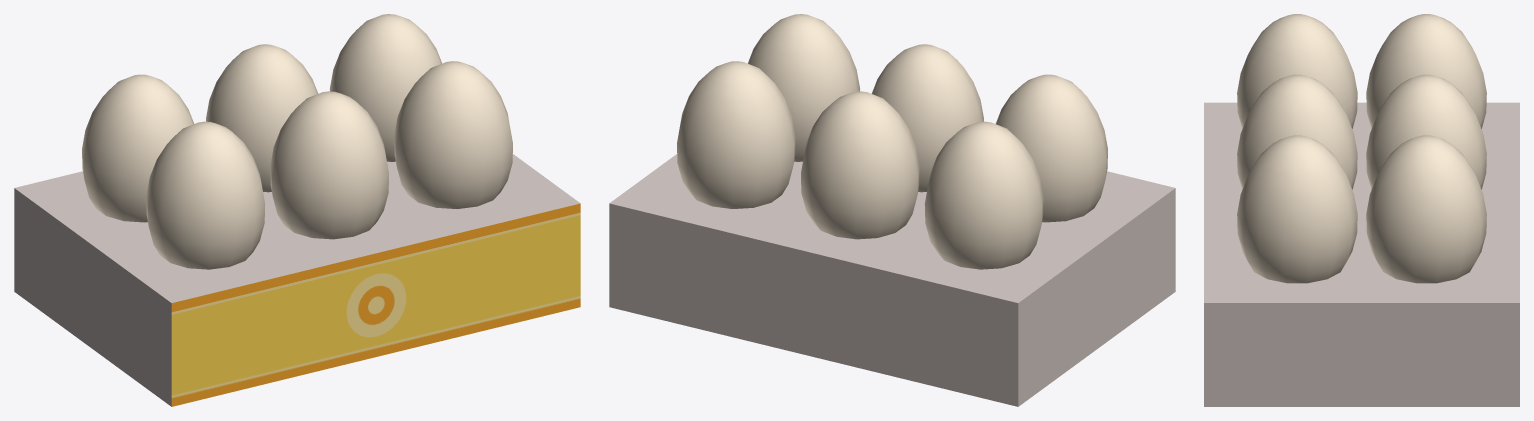
The model's file is Eggs.fbx.
The picture shows the model from 3 angles, left to right: view 1: azimuth 30°, elevation 25°; view 2: azimuth 150°, elevation 25°; view 3: azimuth 270°, elevation 25°; orthographic projection.
Visible parts, largest first — view 1: Eggs; view 2: Eggs; view 3: Eggs.
Part boxes in pixels (x1,y1,x2,y2): Eggs: (14,14,580,406); Eggs: (609,14,1175,406); Eggs: (1204,14,1519,406).
Bounding box in the file's own units: 0.165 × 0.088 × 0.11.
Materials: 3 (1 with a texture image).
